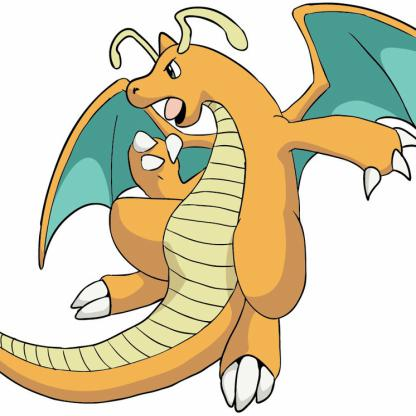Dragonite: (1, 1, 416, 416)
